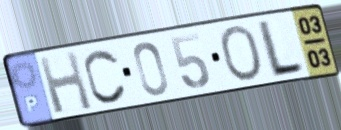0: (131, 39, 171, 98)
5: (167, 30, 211, 91)
C: (82, 47, 129, 106)
H: (35, 48, 96, 116)
L: (256, 17, 307, 81)
O: (217, 23, 266, 83)
